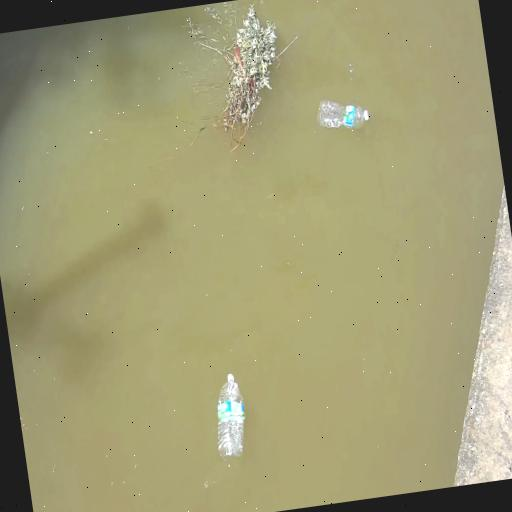plastic: (218, 374, 245, 456), (318, 100, 368, 128)
twig: (189, 5, 281, 149)
